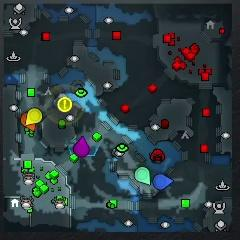p1: (153, 174, 173, 190)
p2: (135, 167, 151, 186)
p3: (74, 137, 89, 158)
p4: (26, 108, 41, 125)
p5: (21, 111, 36, 131)
